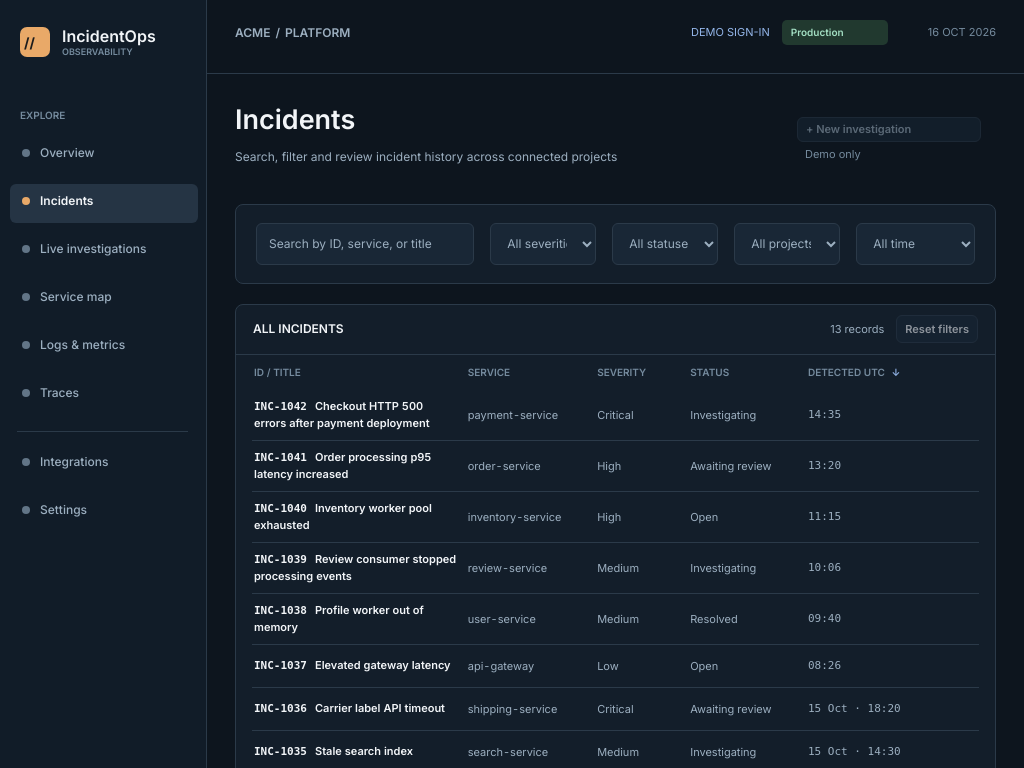
Test: incident registry › opens the canonical incident route and keeps Incidents active
The width and height of the screenshot is (1024, 768).
Click the link "INC-1042": (280, 406) left=254, top=400, right=307, bottom=413
(page scrolled)
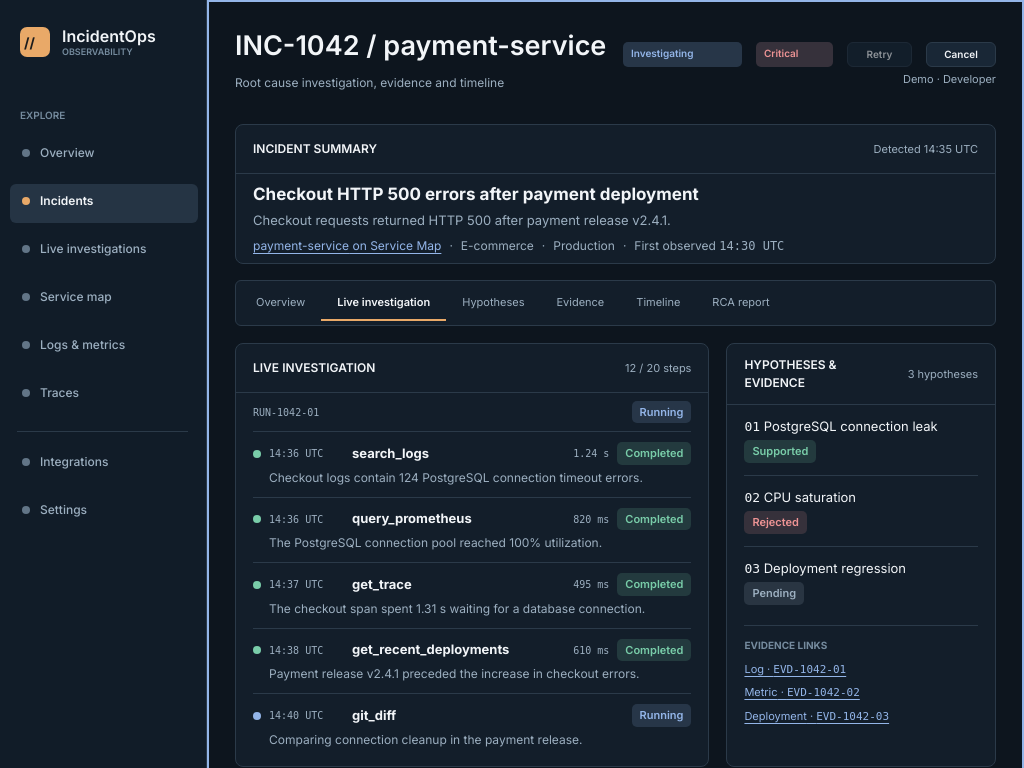
Now the heading "INC-1042 / payment-service" is shown, box left=235, top=26, right=606, bottom=66
